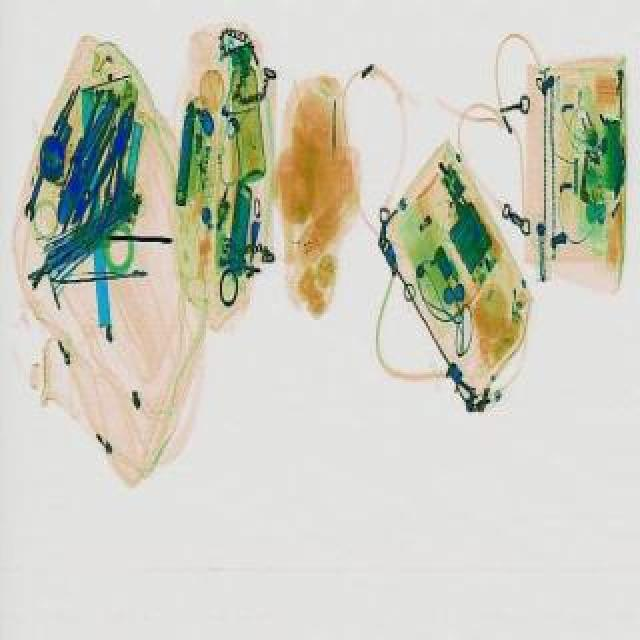scissors: (20, 118, 72, 226)
wrench: (78, 102, 146, 240)
